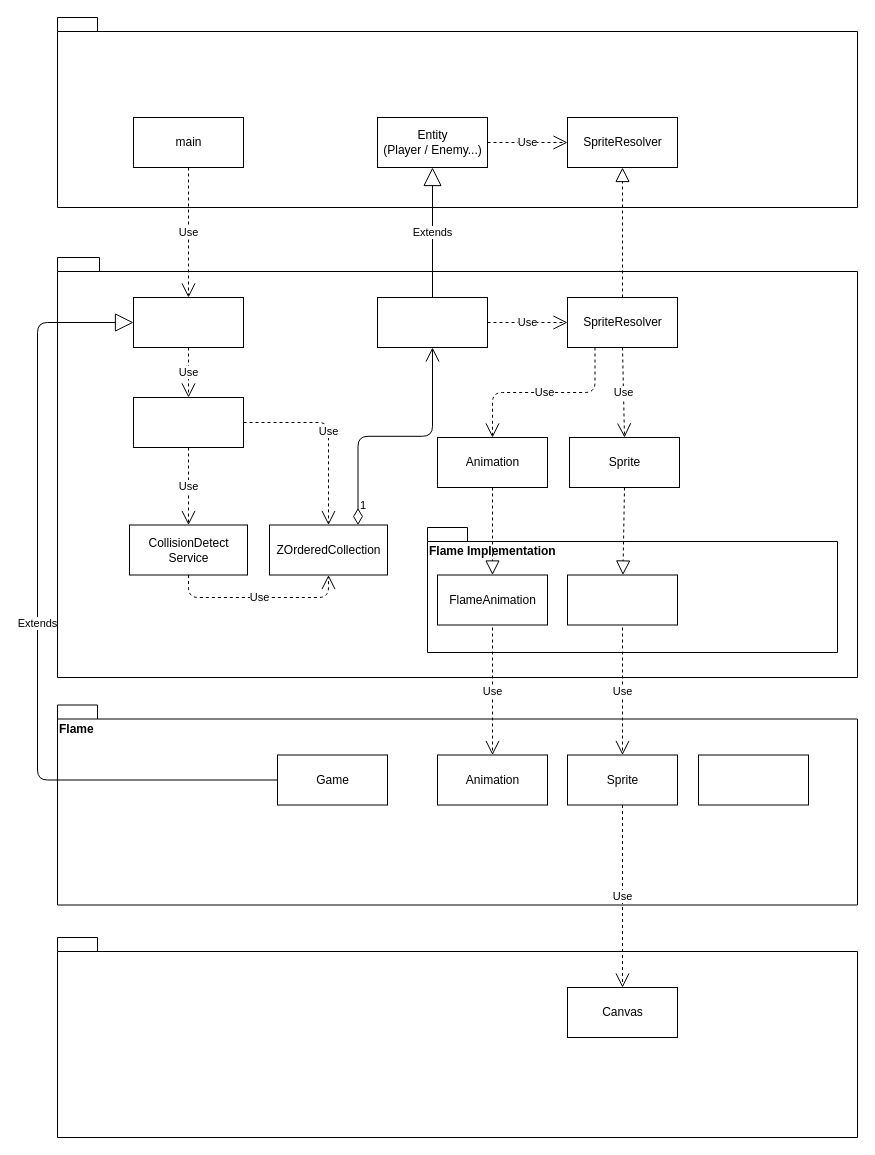
This 875x1155 diagram has some shape labels left out. Each missing label, with the box of its shape:
Engine: (56, 256, 858, 678)
Entity: (376, 296, 488, 348)
FlameSprite: (566, 574, 678, 625)
Flutter: (56, 936, 858, 1138)
Game Application: (56, 16, 858, 208)
GameWidget: (132, 296, 244, 348)
Sound: (698, 754, 808, 805)
World: (132, 396, 244, 448)
